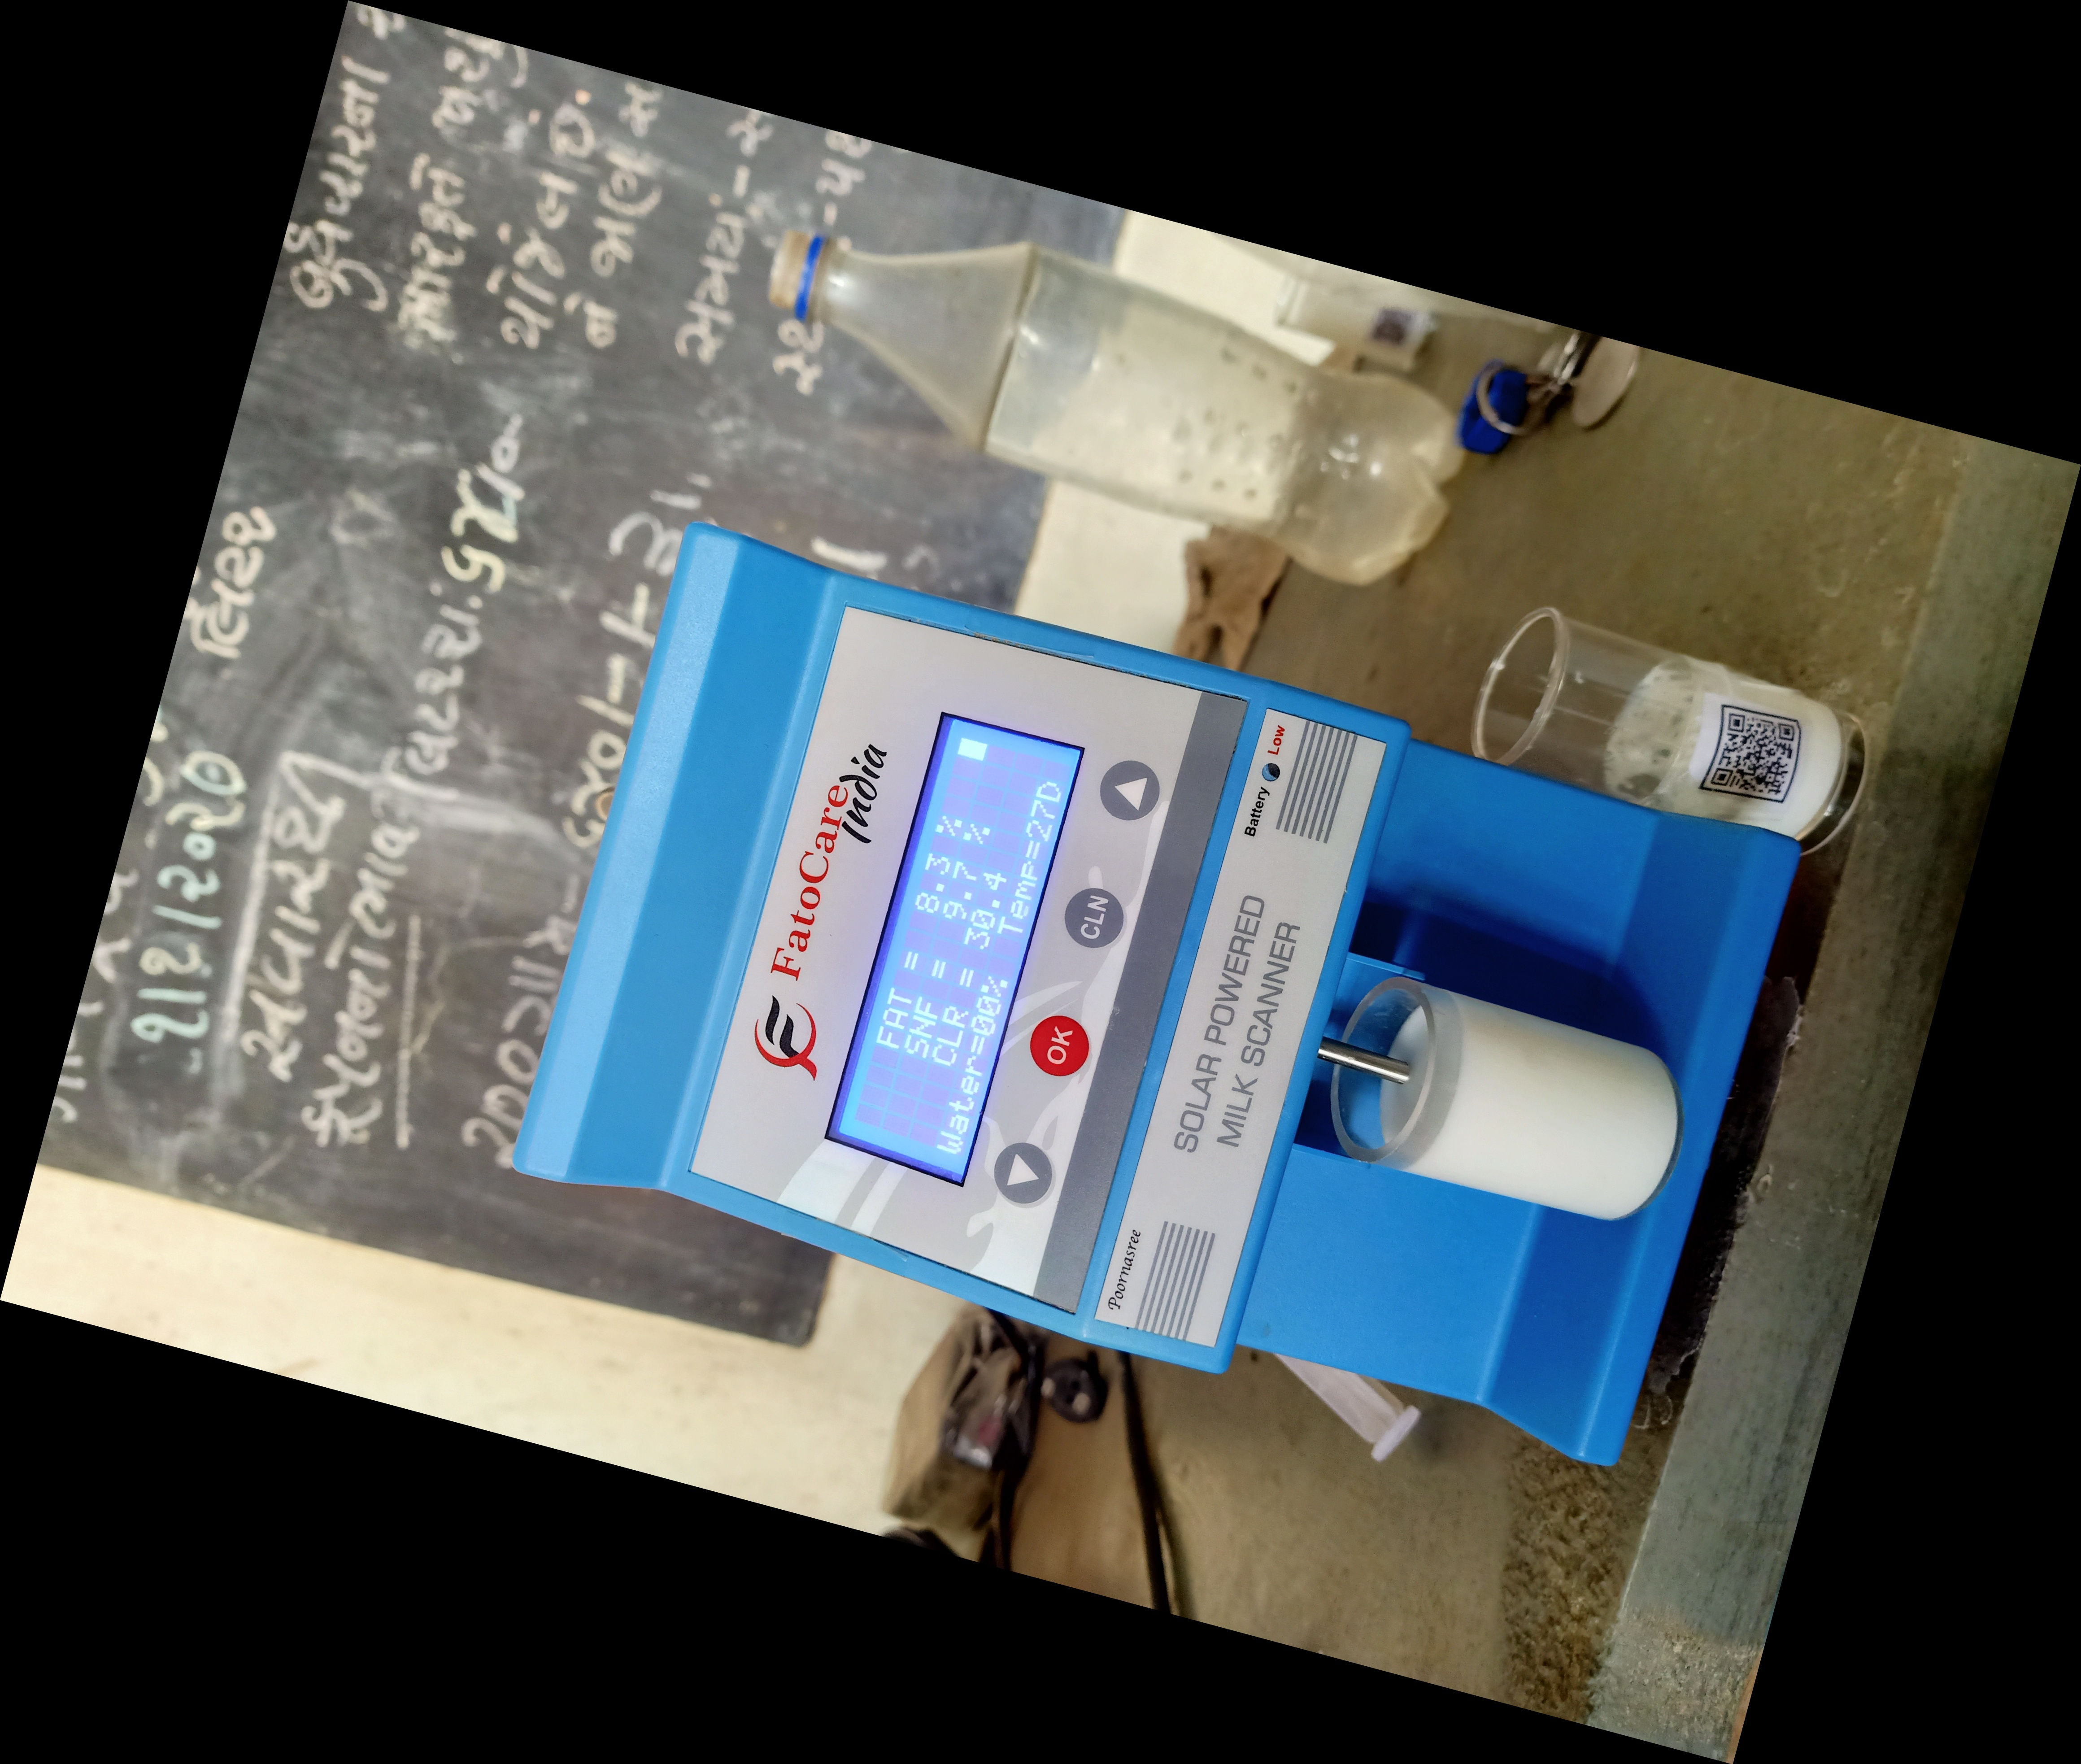lcd: (807, 691, 1092, 1221)
qr: (1692, 693, 1810, 814)
